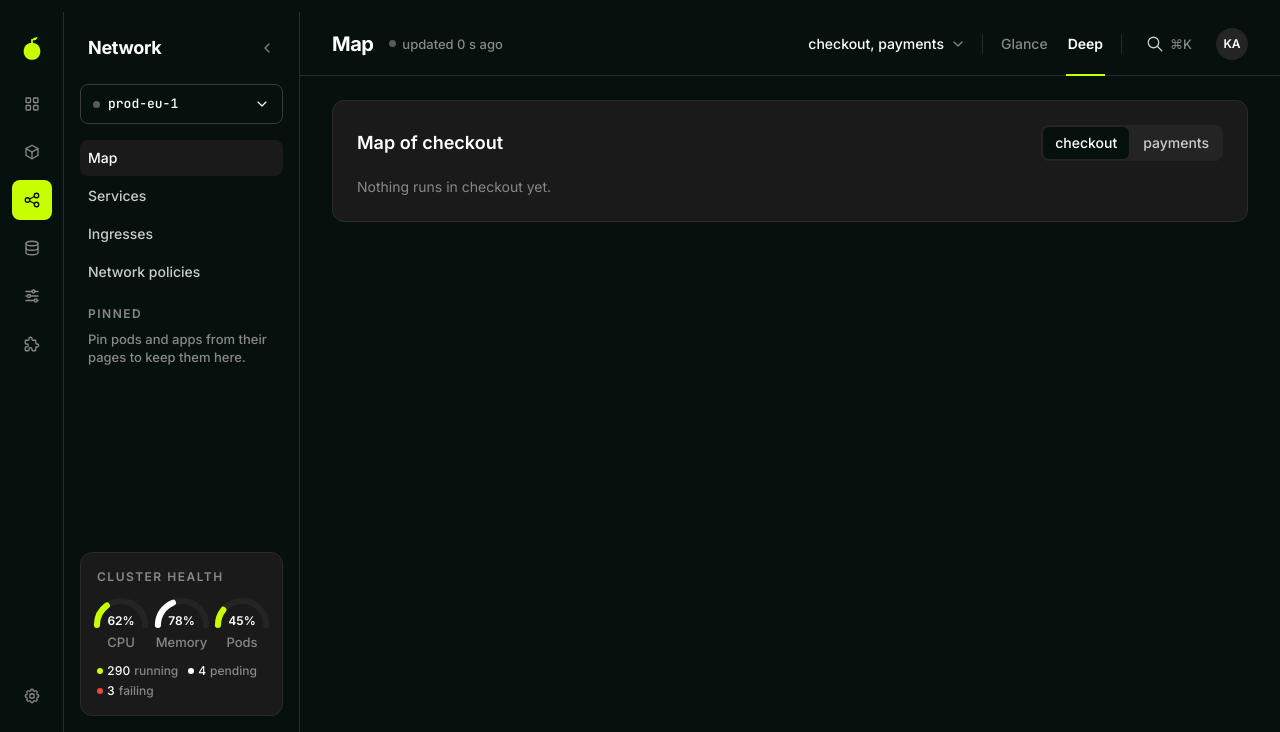
it: lists over several namespaces › the map switches between the picked namespaces
Check: the element "Map of checkout" is shown, box [332,100,1248,222]
Click the radio button labelled "payments": point(1176, 143) [1131,127,1221,159]
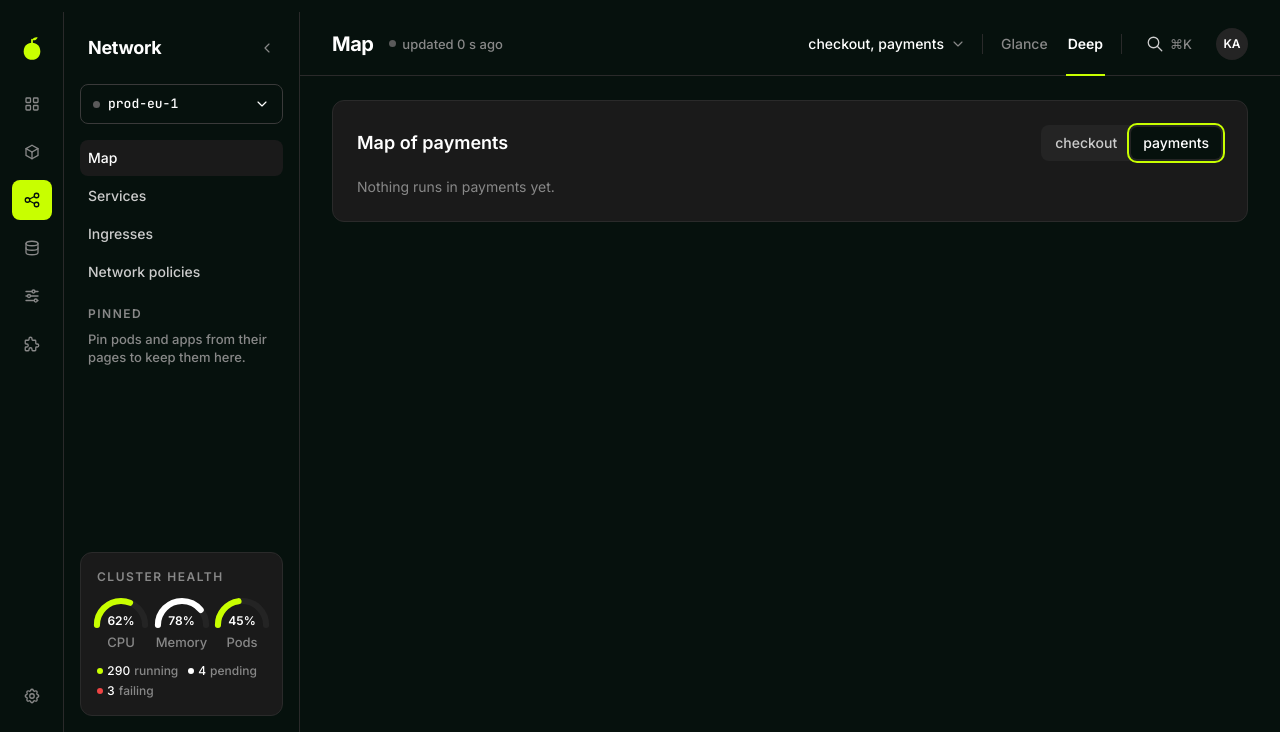
Check: the element "Map of payments" is shown, box [332,100,1248,222]
